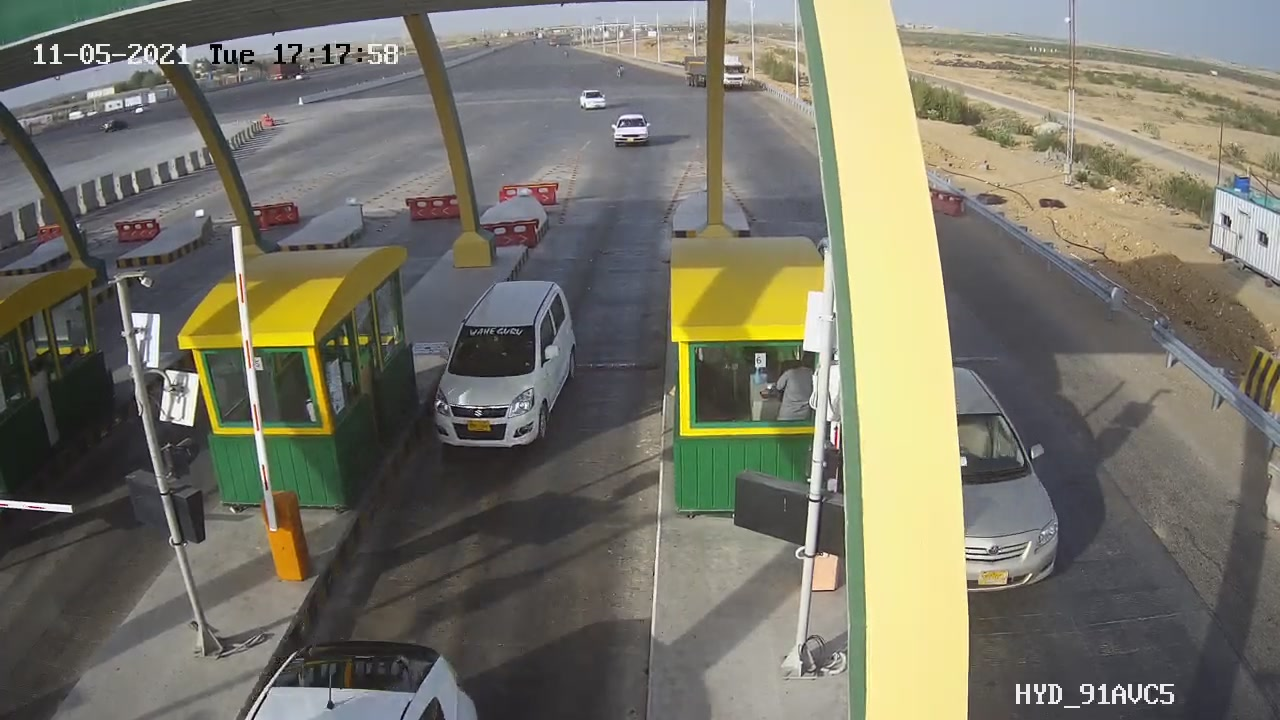F1: (416, 269, 595, 465)
